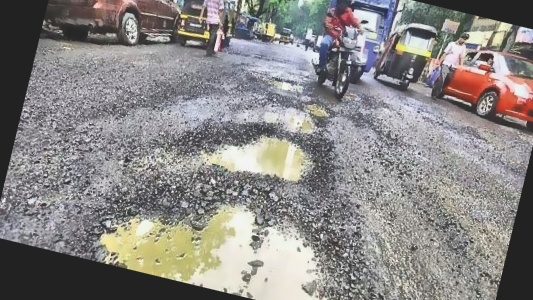pothole: (73, 150, 391, 300), (188, 108, 338, 191), (281, 106, 321, 135), (265, 73, 308, 97), (301, 95, 336, 121)
